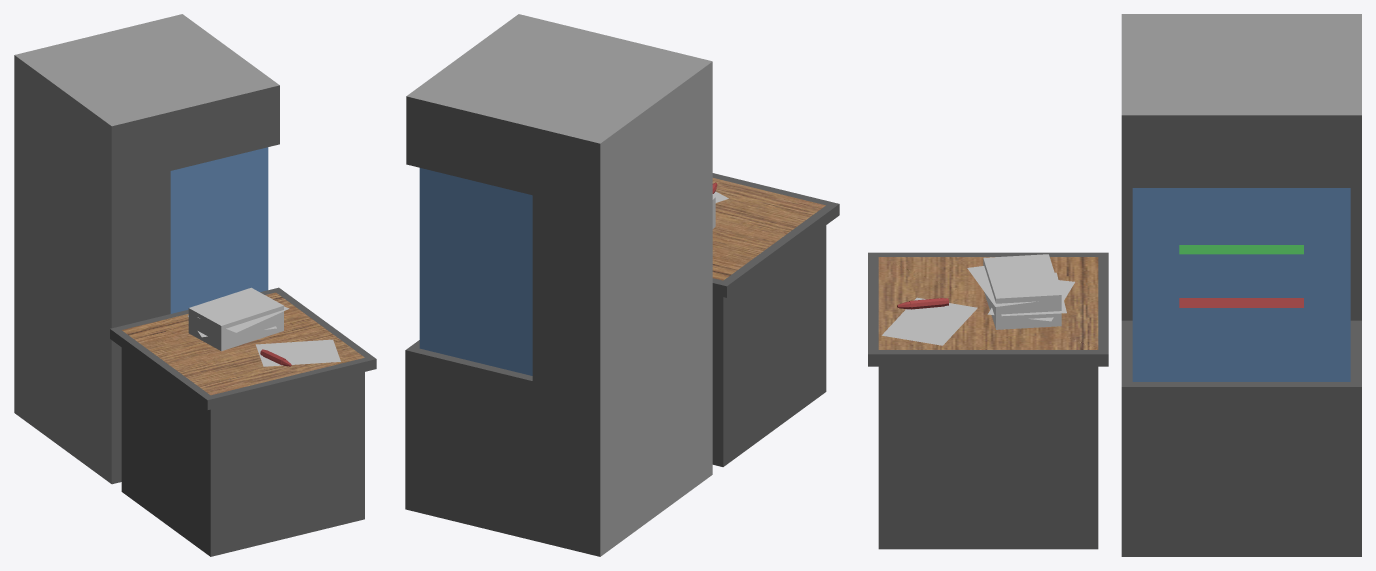
The model's file is Complaint Box.fbx.
3 views of the same model, side by side, from view 1: azimuth 30°, elevation 25°; view 2: azimuth 150°, elevation 25°; view 3: azimuth 270°, elevation 25° (orthographic). The views are drawn at different scales.
Parts seen in each view (by area): view 1: pCube1, pCube2, Paper_stack, Paper; view 2: pCube1, pCube2; view 3: pCube1, pCube2, Paper_stack, Paper.
Part boxes in pixels (x1,y1,x2,y2): pCube1: (14, 14, 279, 484); pCube2: (110, 287, 376, 556); Paper_stack: (188, 287, 283, 351); Paper: (255, 339, 340, 366); pCube1: (405, 14, 712, 556); pCube2: (712, 173, 839, 466); pCube1: (1121, 14, 1361, 556); pCube2: (868, 252, 1108, 549); Paper_stack: (983, 254, 1061, 329); Paper: (882, 297, 977, 345).
Size of the model in its own units: 10.15 by 19.78 by 20.02.
